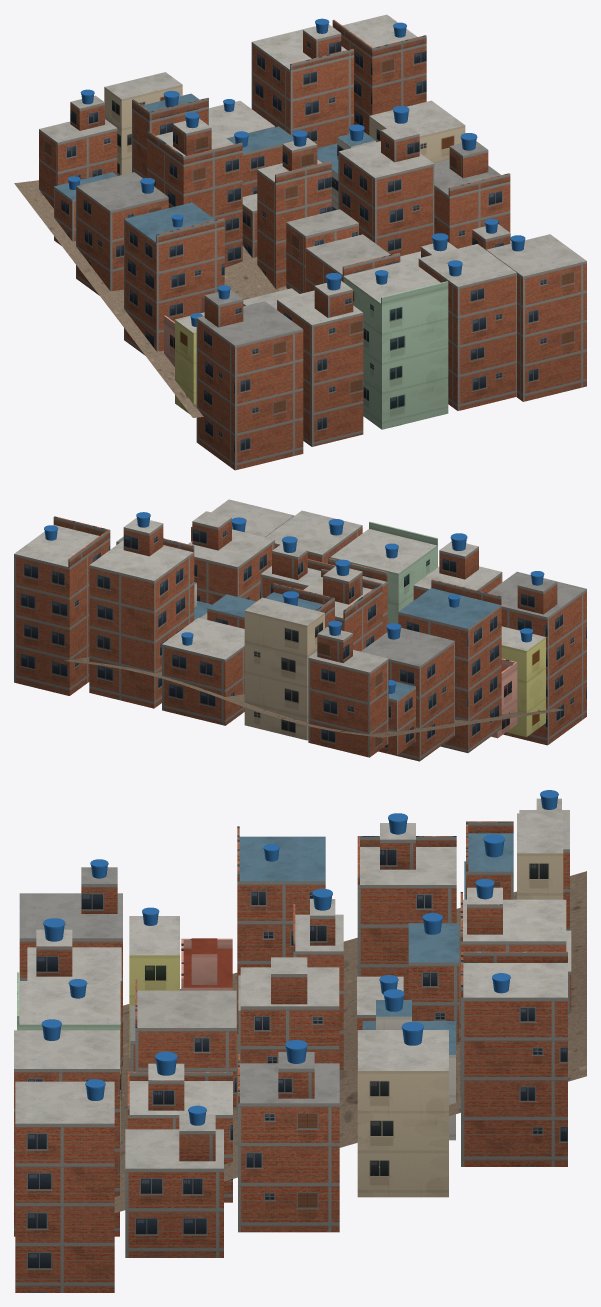
The model's file is favela-quarteirao-tijolo.glb.
The picture shows the model from 3 angles, top to bottom: view 1: azimuth 30°, elevation 25°; view 2: azimuth 150°, elevation 25°; view 3: azimuth 270°, elevation 25°; orthographic projection. The views are drawn at different scales.
Visible parts, largest first — view 1: favela-quarteirao-tijolo; view 2: favela-quarteirao-tijolo; view 3: favela-quarteirao-tijolo.
Part boxes in pixels (box(x1,y1,x2,y2)): favela-quarteirao-tijolo: box(14, 14, 586, 470); favela-quarteirao-tijolo: box(14, 499, 586, 761); favela-quarteirao-tijolo: box(14, 790, 586, 1292).
Size of the model in its own units: 37.87 by 25.59 by 37.95.
Materials: 5 (4 with a texture image).
